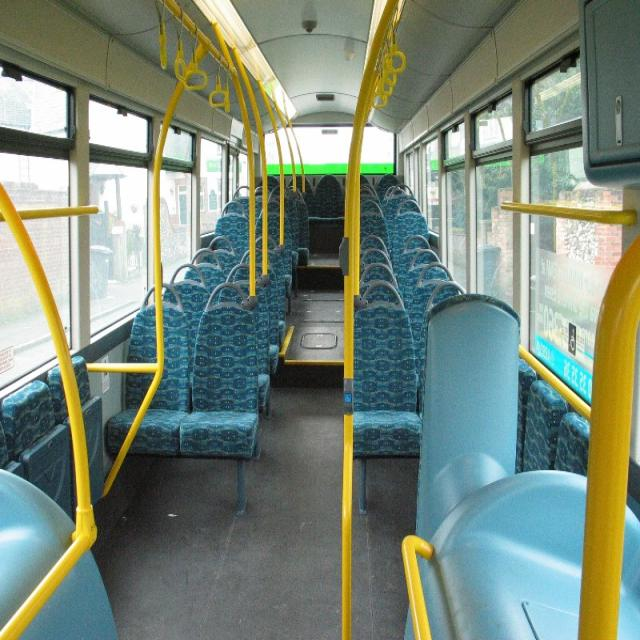empty-seat-frontal: (104, 282, 194, 457), (175, 282, 258, 458), (345, 280, 424, 460)
